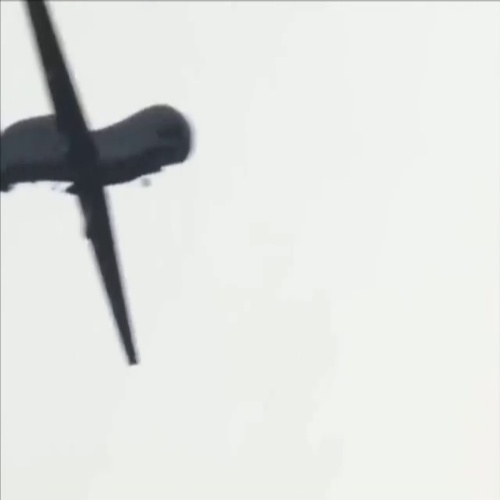uav895: (1, 1, 192, 368)
